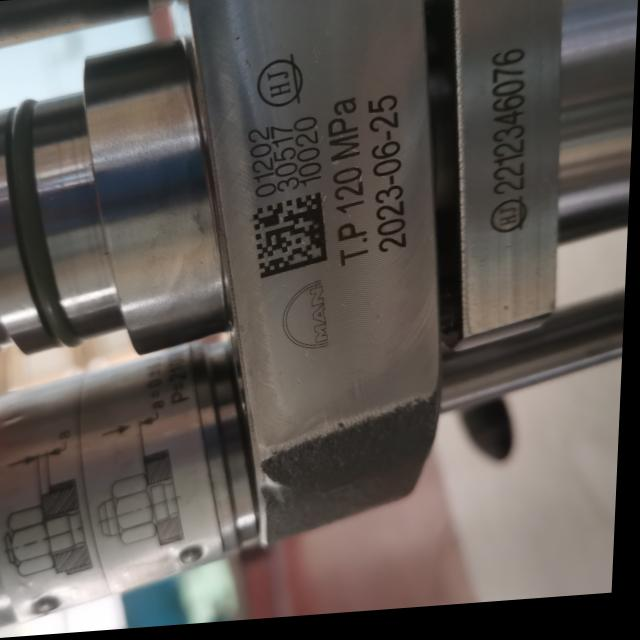dmc: (254, 196, 330, 282)
